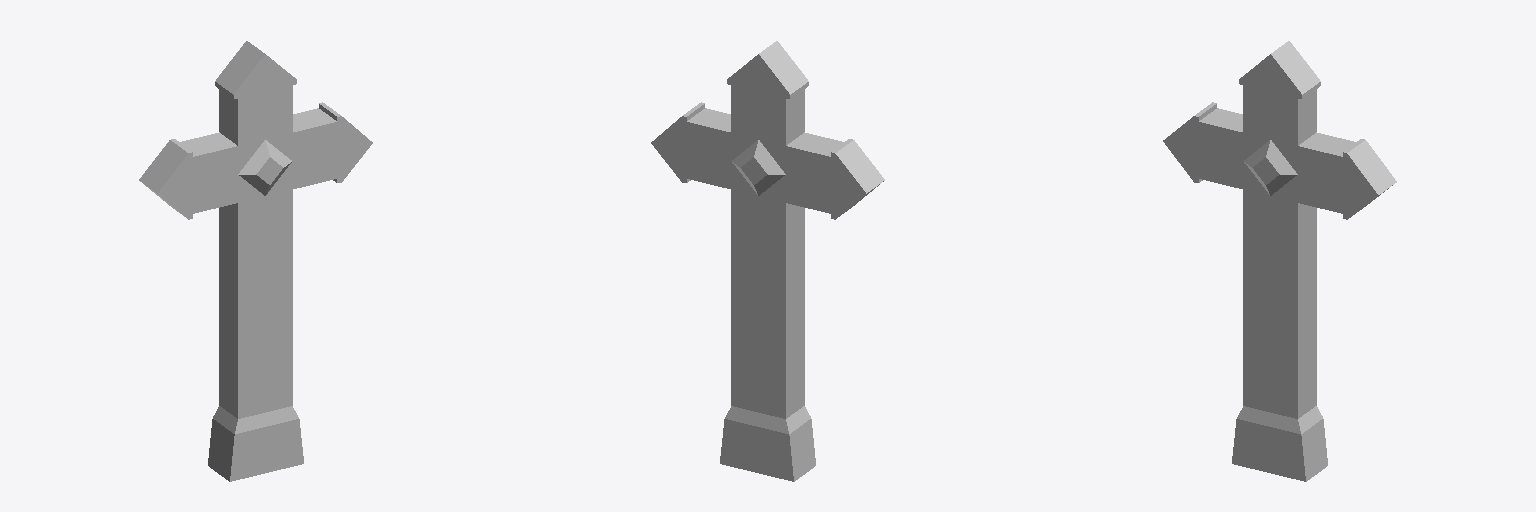
3 renders of one model, left to right at view 1: azimuth 30°, elevation 25°; view 2: azimuth 150°, elevation 25°; view 3: azimuth 330°, elevation 25°, orthographic.
Parts seen in each view (by area): view 1: cross; view 2: cross; view 3: cross.
Boxes of the visible parts, x1,y1,x2,y2 form: cross: [139, 41, 372, 481]; cross: [651, 41, 884, 481]; cross: [1163, 41, 1396, 481].
Size of the model in its own units: 0.5409 by 1 by 0.1212.